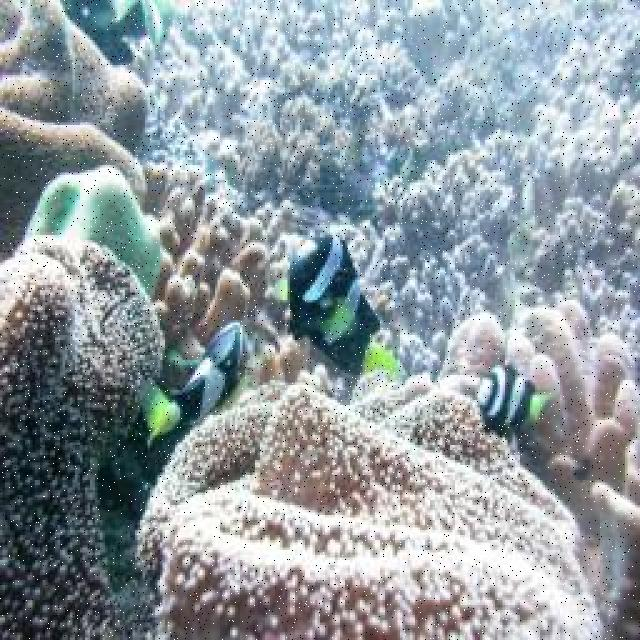fish: (273, 238, 400, 379), (138, 322, 251, 447), (477, 364, 557, 440)
reefs: (0, 234, 638, 638), (438, 301, 638, 638), (134, 164, 272, 360)
